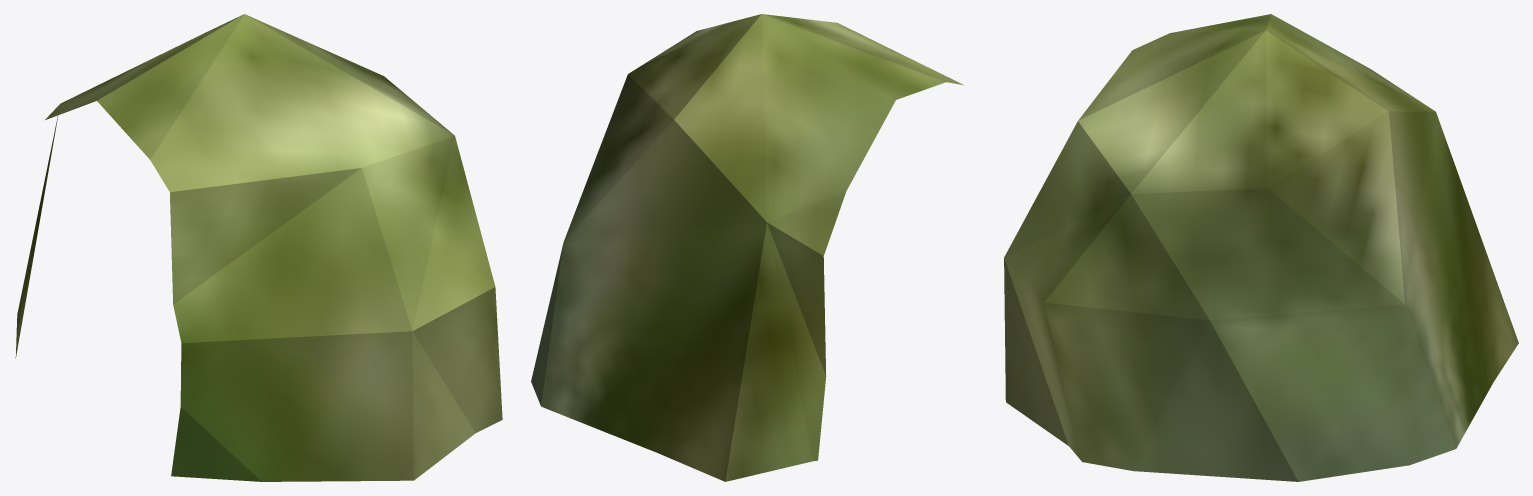
3 renders of one model, left to right at view 1: azimuth 30°, elevation 25°; view 2: azimuth 150°, elevation 25°; view 3: azimuth 270°, elevation 25°, orthographic. The views are drawn at different scales.
Size of the model in its own units: 0.246 by 0.2521 by 0.3299.
1 material, 1 textured.
